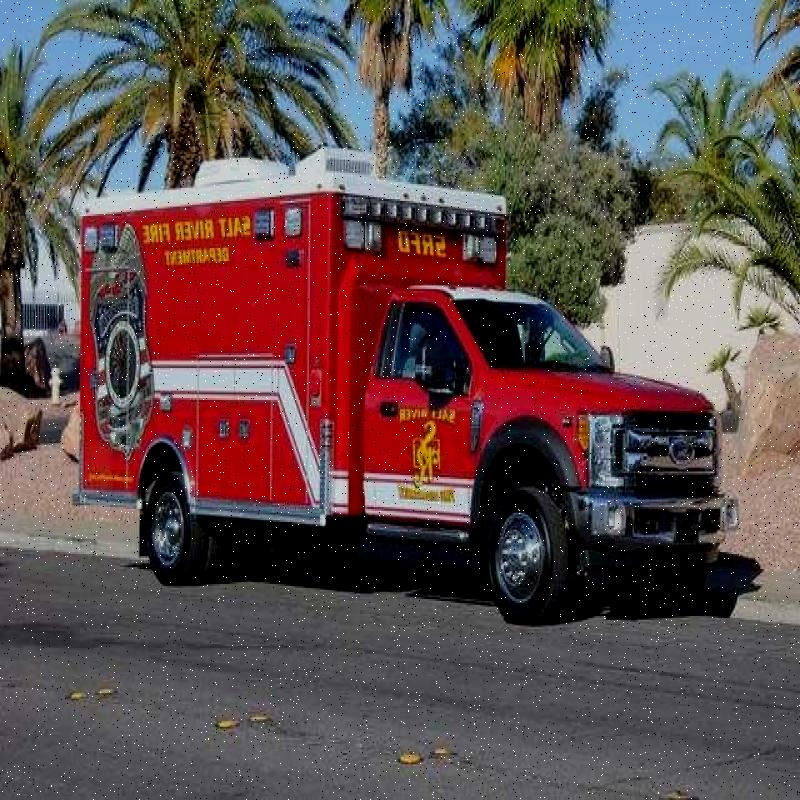AmbulanceSiren: (334, 180, 508, 262)
